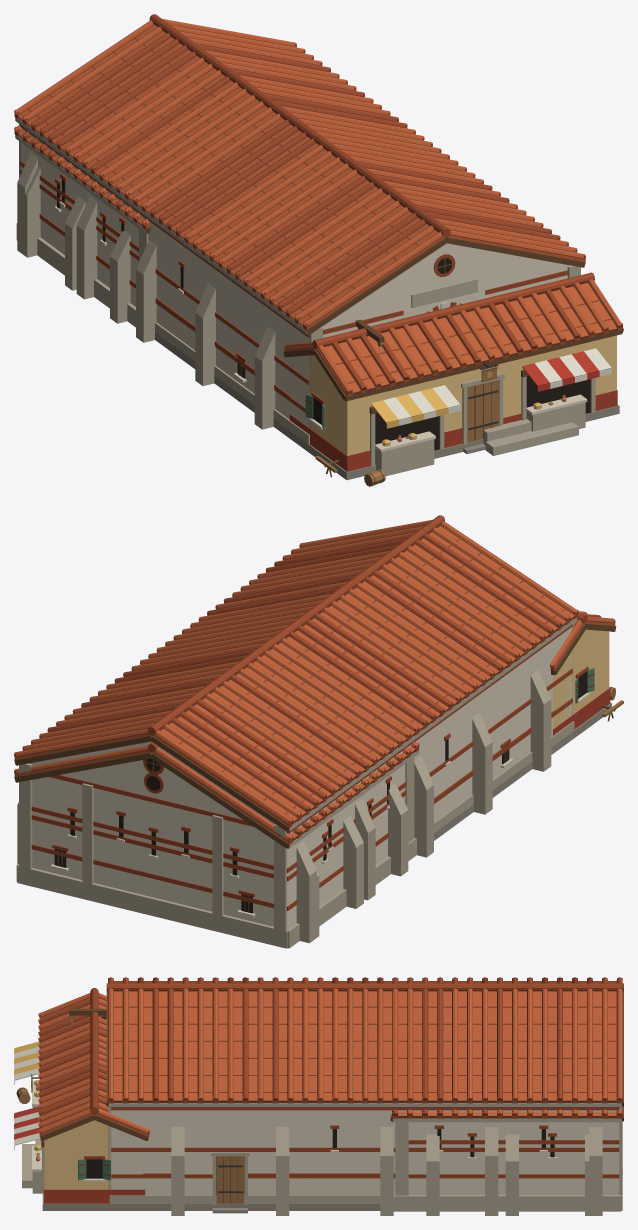
The model's file is Speicherhof.fbx.
3 views of the same model, one above another, from view 1: azimuth 30°, elevation 25°; view 2: azimuth 150°, elevation 25°; view 3: azimuth 270°, elevation 25° (orthographic). The views are drawn at different scales.
Parts seen in each view (by area): view 1: Speicherhof_0, Speicherhof_1; view 2: Speicherhof_0, Speicherhof_1; view 3: Speicherhof_0, Speicherhof_1.
Part boxes in pixels (left/top/right/bottom): Speicherhof_0: left=14, top=14, right=585, bottom=486; Speicherhof_1: left=14, top=125, right=623, bottom=480; Speicherhof_0: left=14, top=515, right=623, bottom=943; Speicherhof_1: left=14, top=611, right=616, bottom=948; Speicherhof_0: left=16, top=977, right=623, bottom=1215; Speicherhof_1: left=14, top=988, right=623, bottom=1215.
Size of the model in its own units: 3.61 by 2.23 by 7.3.
